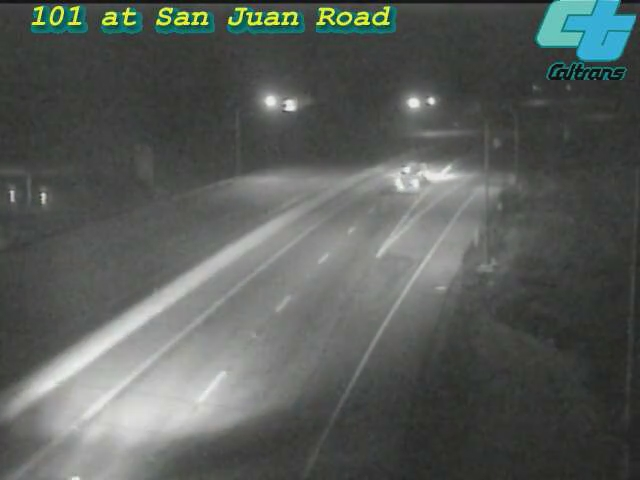vehicle: (372, 137, 452, 217)
